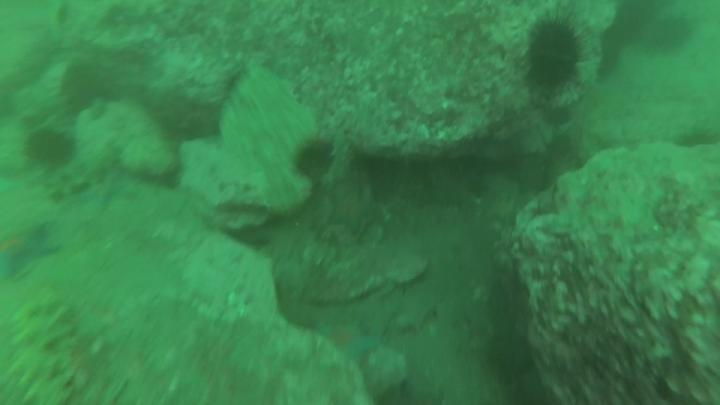echinus: (521, 5, 592, 109), (484, 325, 537, 381), (21, 126, 78, 173), (58, 65, 109, 113), (293, 135, 336, 180), (677, 120, 720, 150)
holothurian: (7, 293, 111, 405), (40, 145, 122, 202)
starfish: (1, 221, 63, 280), (314, 320, 383, 369)
